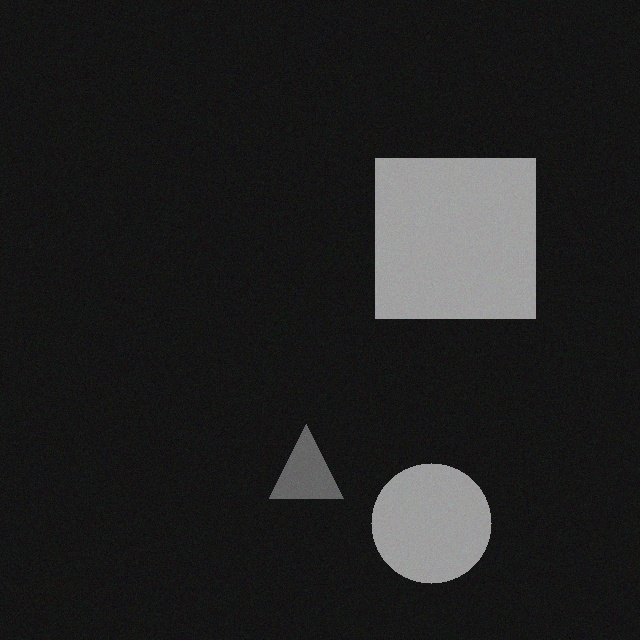circle: (380, 462, 500, 582)
square: (384, 157, 544, 317)
triangle: (278, 423, 352, 497)
